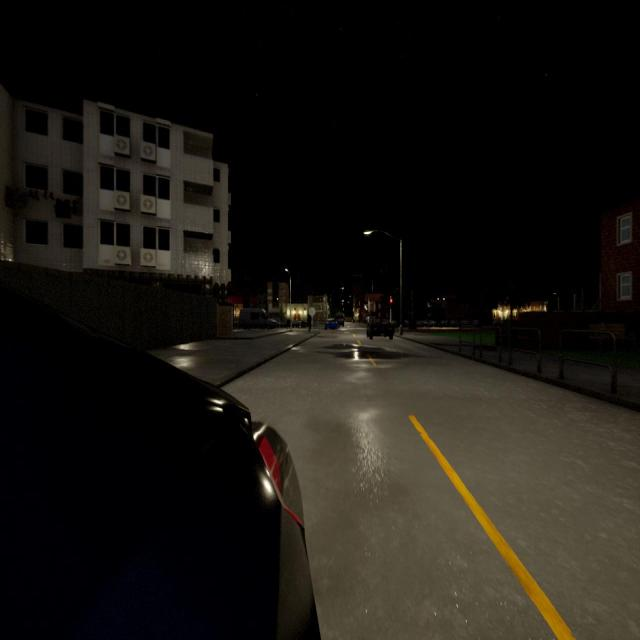Pedestrian: (308, 314, 312, 333)
Traffic_Signs: (308, 307, 315, 316)
Vehicle: (0, 285, 319, 637), (239, 308, 277, 330), (366, 317, 394, 341), (334, 312, 345, 328), (324, 318, 338, 330)
traffic_light: (389, 297, 393, 309)
